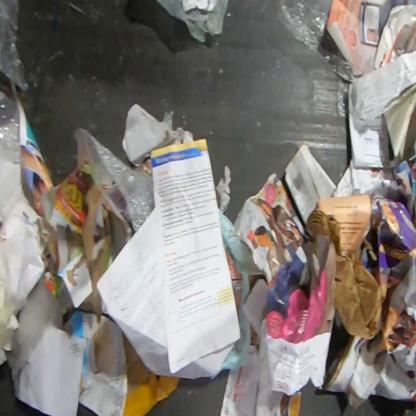cardboard: (61, 307, 181, 416)
rigid_plastic: (0, 0, 30, 167)
soft_plastic: (275, 0, 363, 120), (80, 129, 155, 233)
